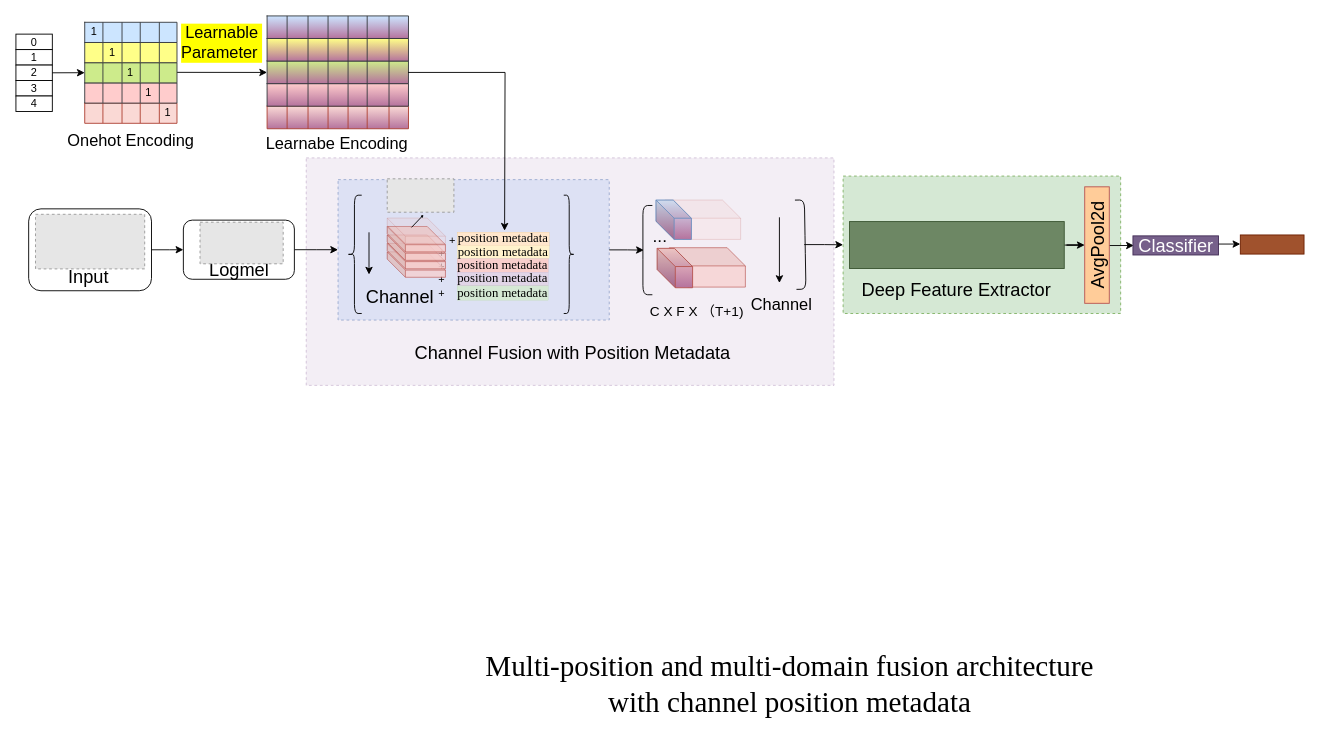
Some shapes in this 1320 by 734 pixel diagram are drawn without their labels. Grey dashed boxes stand in for pictures. Here are the shapes that lost their labels. From the top down, the centre of each, then its label:
At [415,230]: "anastomosis site".
At [956,245]: "CNN with Residual block".
At [1271,244]: "Output".
